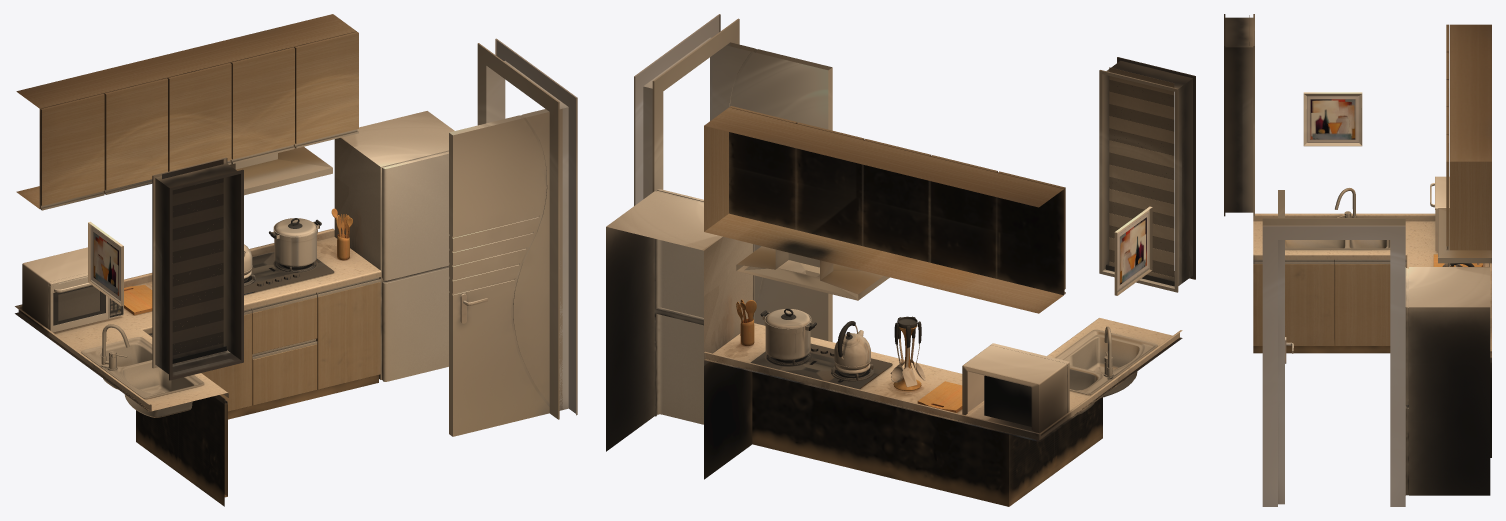
Rendered from Kitchen.FBX.
3 views of the same model, side by side, from view 1: azimuth 30°, elevation 25°; view 2: azimuth 150°, elevation 25°; view 3: azimuth 270°, elevation 25° (orthographic). The views are drawn at different scales.
Visible parts, largest first — view 1: Kitchen_Cabinet02, Kitchen_Door, Kitchen_Cabinet01, Kitchen_fridge03, Kitchen_Doorframe03, Kitchen_Window, Kitchen_Shutters, Kitchen_Microwave01, Kitchen_Watercap, Kitchen_SmokeMachine, Kitchen_Picture, Kitchen_pot01 (+3 smaller); view 2: Kitchen_Cabinet02, Kitchen_Cabinet01, Kitchen_fridge03, Kitchen_Shutters, Kitchen_Door, Kitchen_Window, Kitchen_Microwave01, Kitchen_Doorframe03, Kitchen_SmokeMachine, Kitchen_Watercap, Kitchen_Picture, Kitchen_Cooking01 (+5 smaller); view 3: Kitchen_fridge03, Kitchen_Cabinet01, Kitchen_Doorframe03, Kitchen_Cabinet02, Kitchen_Window, Kitchen_Picture, Kitchen_Door, Kitchen_Watercap, Kitchen_SmokeMachine, Kitchen_Microwave01.
Boxes of the visible parts, box(x1,y1,x2,y2) form: Kitchen_Cabinet02: box(16, 14, 358, 210); Kitchen_Door: box(449, 108, 562, 436); Kitchen_Cabinet01: box(15, 228, 381, 506); Kitchen_fridge03: box(334, 111, 454, 381); Kitchen_Doorframe03: box(477, 38, 577, 419); Kitchen_Window: box(152, 157, 243, 380); Kitchen_Shutters: box(162, 159, 226, 363); Kitchen_Microwave01: box(22, 247, 123, 332); Kitchen_Watercap: box(81, 324, 204, 417); Kitchen_SmokeMachine: box(229, 147, 332, 195); Kitchen_Picture: box(88, 221, 123, 306); Kitchen_pot01: box(269, 218, 321, 266); Kitchen_Cabinet02: box(704, 106, 1065, 313); Kitchen_Cabinet01: box(704, 318, 1182, 506); Kitchen_fridge03: box(606, 189, 754, 451); Kitchen_Shutters: box(1105, 67, 1174, 286); Kitchen_Door: box(712, 42, 832, 341); Kitchen_Window: box(1099, 57, 1195, 292); Kitchen_Microwave01: box(962, 343, 1069, 433); Kitchen_Doorframe03: box(634, 14, 739, 205); Kitchen_SmokeMachine: box(736, 246, 889, 300); Kitchen_Watercap: box(1055, 326, 1157, 414); Kitchen_Picture: box(1114, 206, 1152, 295); Kitchen_Cooking01: box(750, 343, 892, 389); Kitchen_fridge03: box(1405, 267, 1490, 495); Kitchen_Cabinet01: box(1253, 213, 1491, 457); Kitchen_Doorframe03: box(1262, 218, 1405, 506); Kitchen_Cabinet02: box(1446, 24, 1491, 250); Kitchen_Window: box(1224, 14, 1254, 216); Kitchen_Picture: box(1303, 92, 1362, 146); Kitchen_Door: box(1278, 190, 1293, 504); Kitchen_Watercap: box(1285, 188, 1390, 249); Kitchen_SmokeMachine: box(1438, 208, 1491, 263); Kitchen_Microwave01: box(1430, 176, 1449, 251).
Bounding box in the file's own units: 3160 × 1909 × 2440.
Materials: 17 (17 with a texture image).
